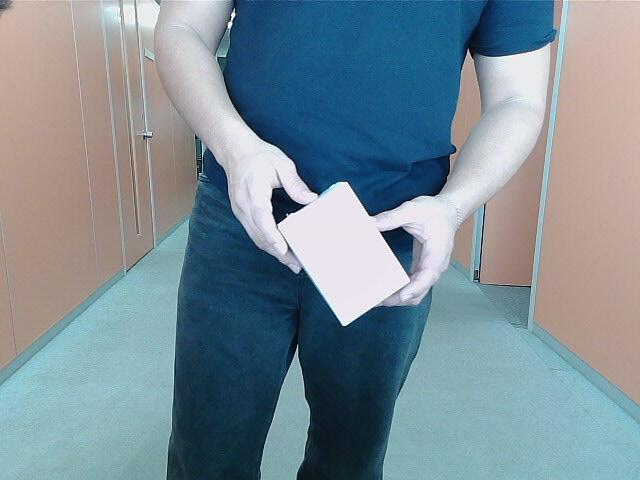Blind_box: (278, 180, 423, 322)
